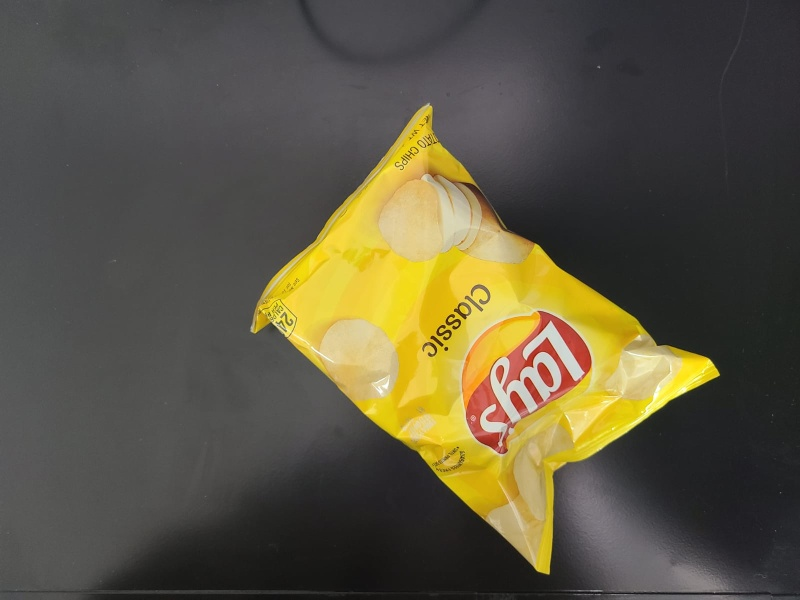lays: (251, 100, 726, 579)
